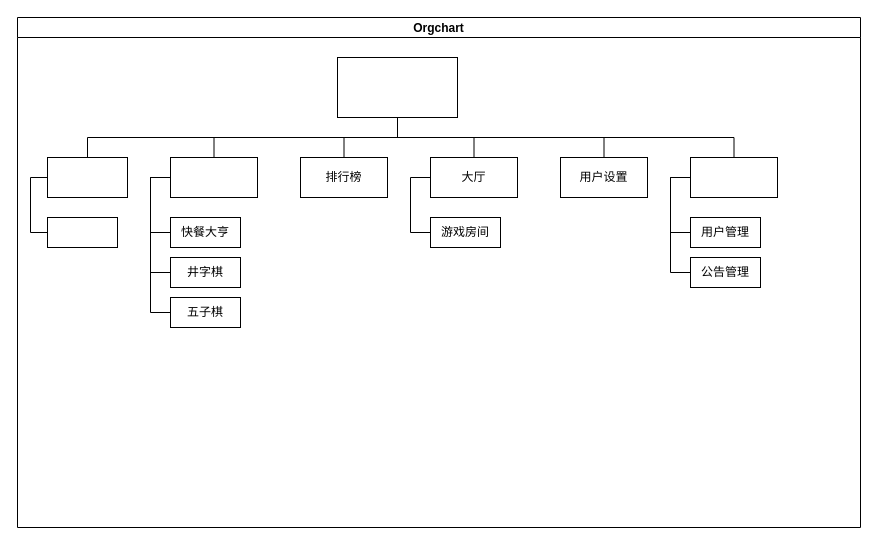
Some shapes in this 878 by 545 pixel diagram are drawn without their labels. The box of each missing label's shape, as (x1, y1, x2, y2) in pixels:
PBG: (336, 56, 458, 118)
公告浏览: (46, 216, 118, 248)
游戏: (170, 156, 258, 198)
管理员页面: (690, 156, 778, 198)
首页: (46, 156, 128, 198)
